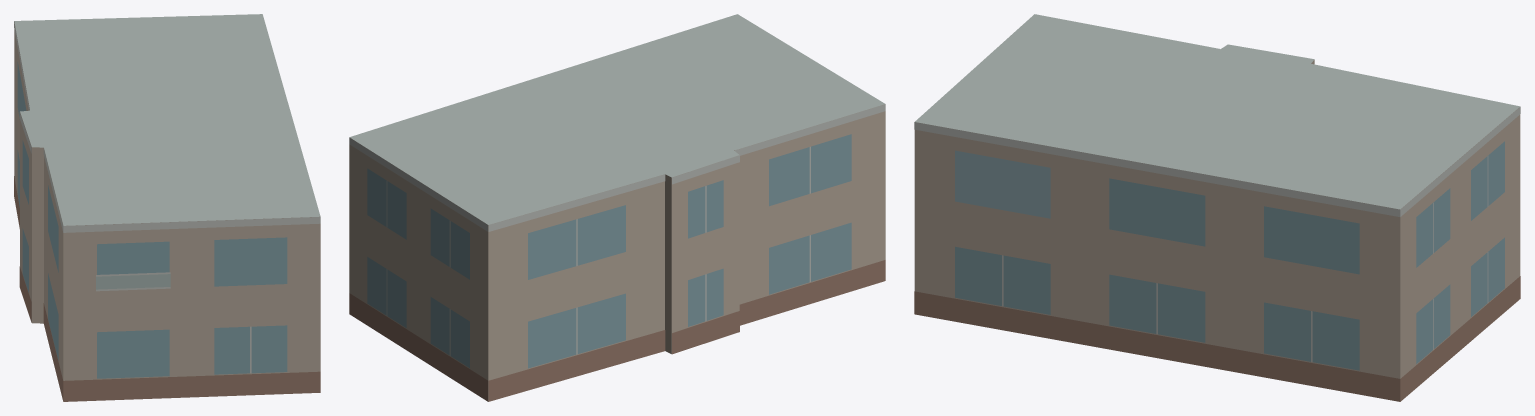
The model's file is survey-upis-32720693.glb.
3 renders of one model, left to right at view 1: azimuth 30°, elevation 25°; view 2: azimuth 150°, elevation 25°; view 3: azimuth 270°, elevation 25°, orthographic. The views are drawn at different scales.
Parts seen in each view (by area): view 1: survey-upis-32720693.tmp; view 2: survey-upis-32720693.tmp; view 3: survey-upis-32720693.tmp.
Boxes of the visible parts, x1,y1,x2,y2 form: survey-upis-32720693.tmp: (14, 14, 320, 401); survey-upis-32720693.tmp: (349, 14, 885, 401); survey-upis-32720693.tmp: (914, 14, 1520, 401).
Size of the model in its own units: 13.3 by 6.1 by 17.42.
